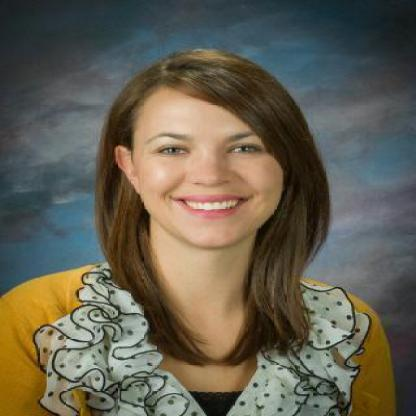long-hair: (62, 250, 355, 315)
